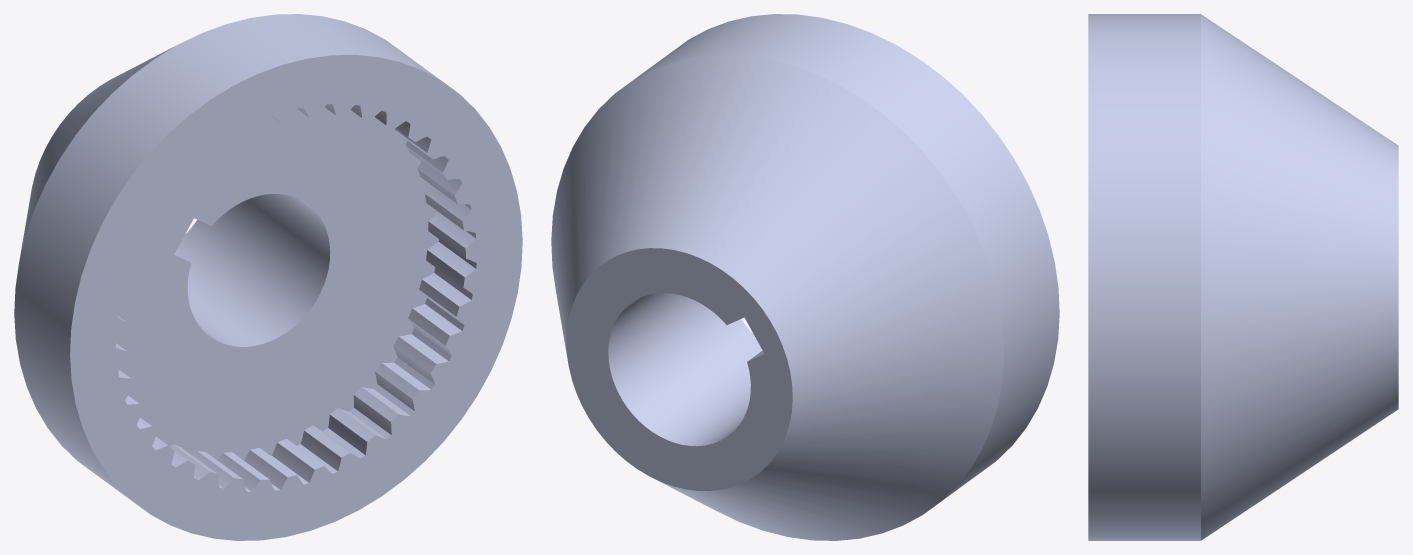
File: REV_21_2108_P01_1_solid1.obj
The picture shows the model from 3 angles, left to right: view 1: azimuth 30°, elevation 25°; view 2: azimuth 150°, elevation 25°; view 3: azimuth 270°, elevation 25°; orthographic projection.
Parts seen in each view (by area): view 1: mesh21867, mesh21866, mesh21858, mesh21865, mesh21856, mesh21911, mesh21879, mesh21883, mesh21914, mesh21918, mesh21887; view 2: mesh21856, mesh21858, mesh21859, mesh21855, mesh21865; view 3: mesh21855, mesh21857, mesh21856, mesh21858.
Part boxes in pixels (x1,y1,x2,y2): mesh21867: (70,54,522,540); mesh21866: (116,107,438,460); mesh21858: (14,14,420,500); mesh21865: (176,194,330,346); mesh21856: (19,46,174,258); mesh21911: (272,442,314,482); mesh21879: (428,212,475,248); mesh21883: (428,242,475,277); mesh21914: (300,430,341,470); mesh21918: (244,450,287,489); mesh21887: (422,273,471,306); mesh21856: (617,54,1003,525); mesh21858: (653,14,1059,500); mesh21859: (566,248,792,491); mesh21855: (551,70,902,540); mesh21865: (608,293,762,446); mesh21855: (1201,140,1398,540); mesh21857: (1088,140,1200,540); mesh21856: (1201,14,1398,208); mesh21858: (1088,14,1200,140).
Bounding box in the file's own units: 0.0254 × 0.0254 × 0.0149.
